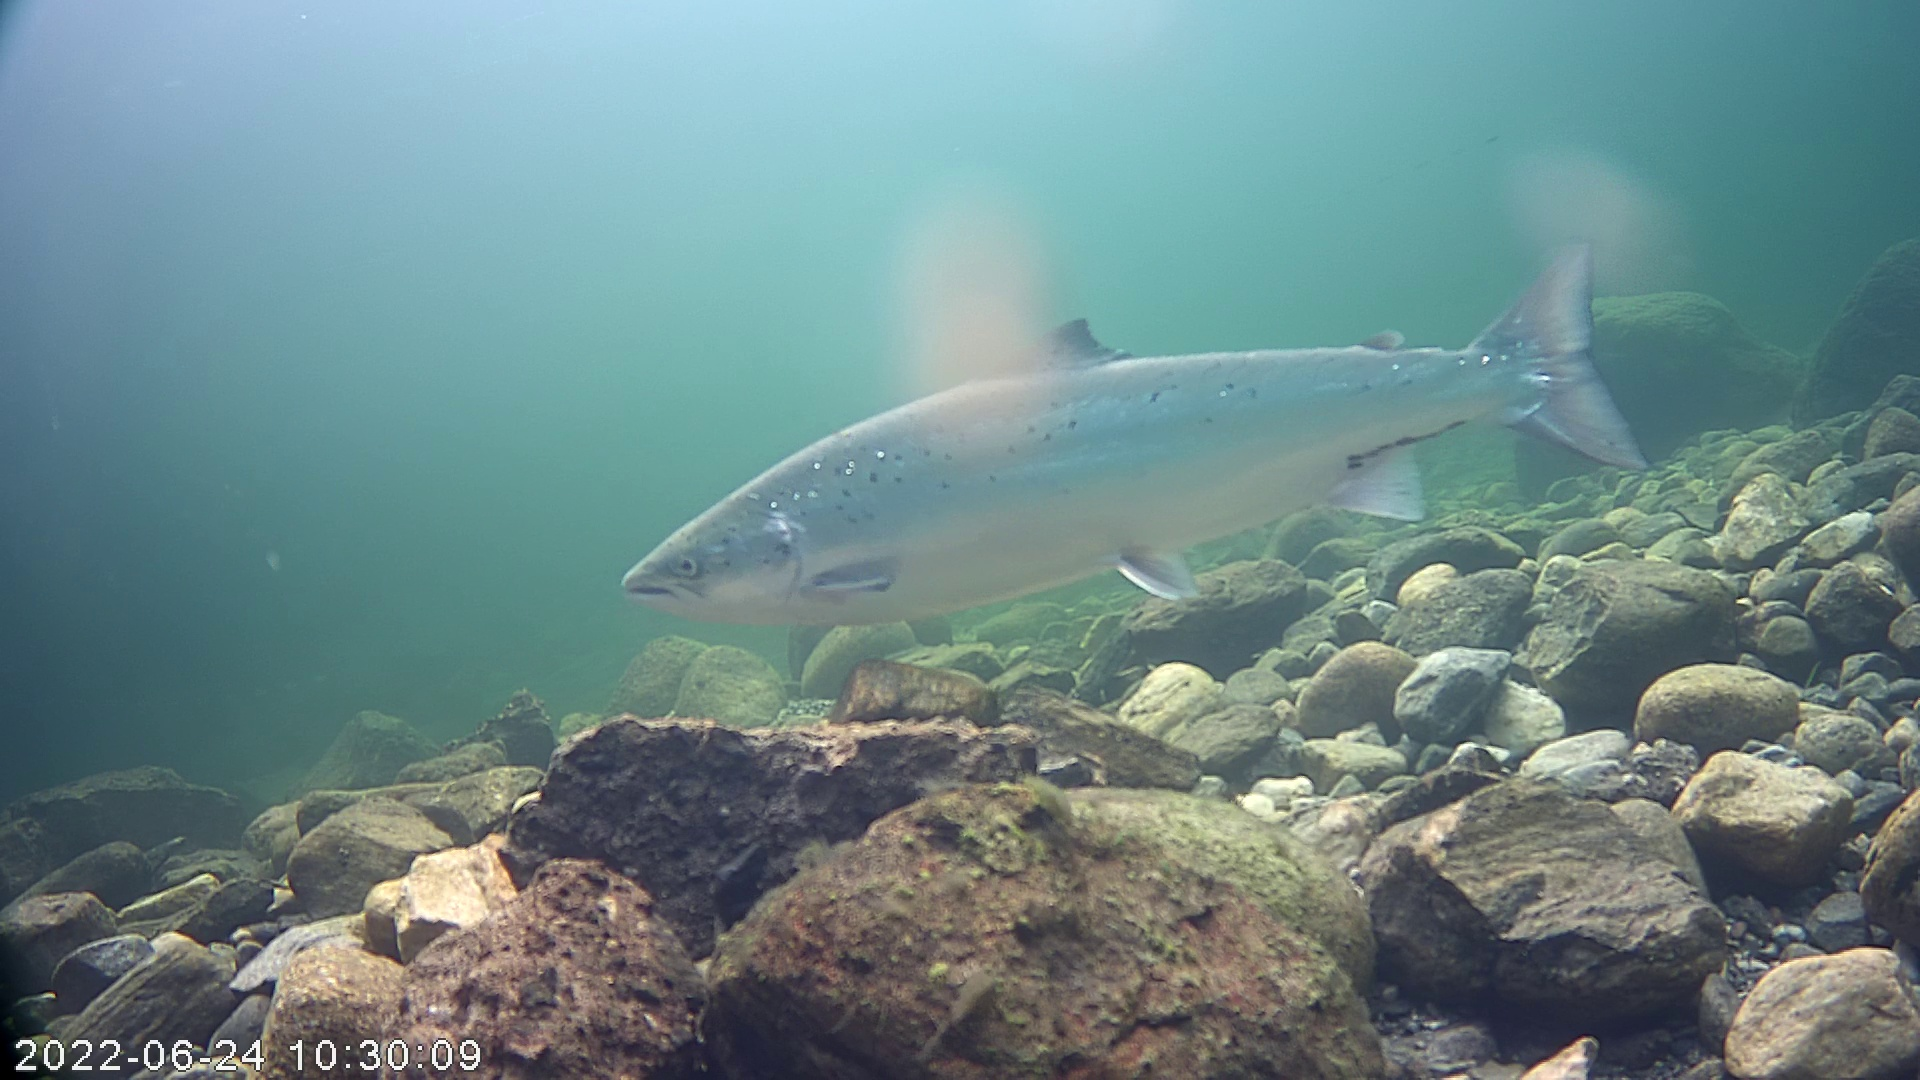salmon: (615, 233, 1647, 632)
